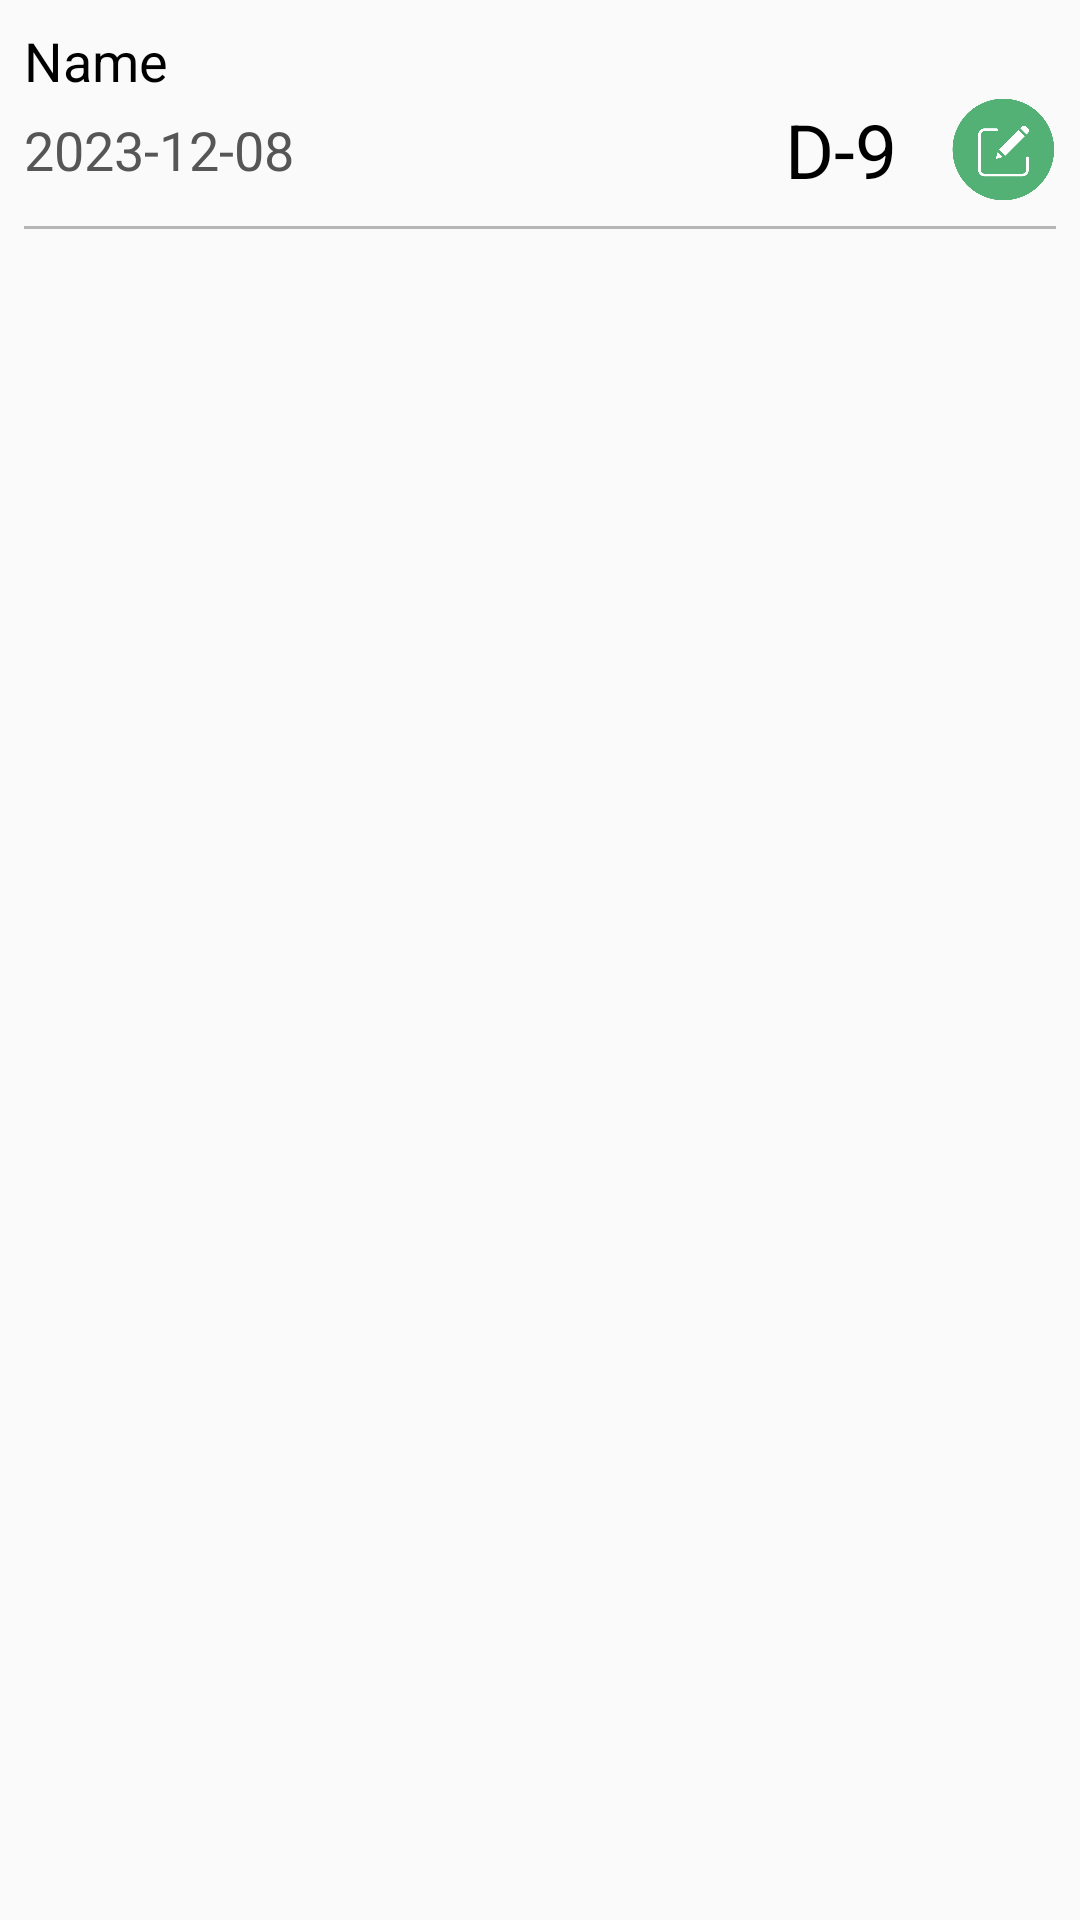

Icons on this 1080x1920 Android screen, each with its box as bbox=(x1, y1, x2, y2):
EDIT!: bbox=(952, 99, 1054, 200)
